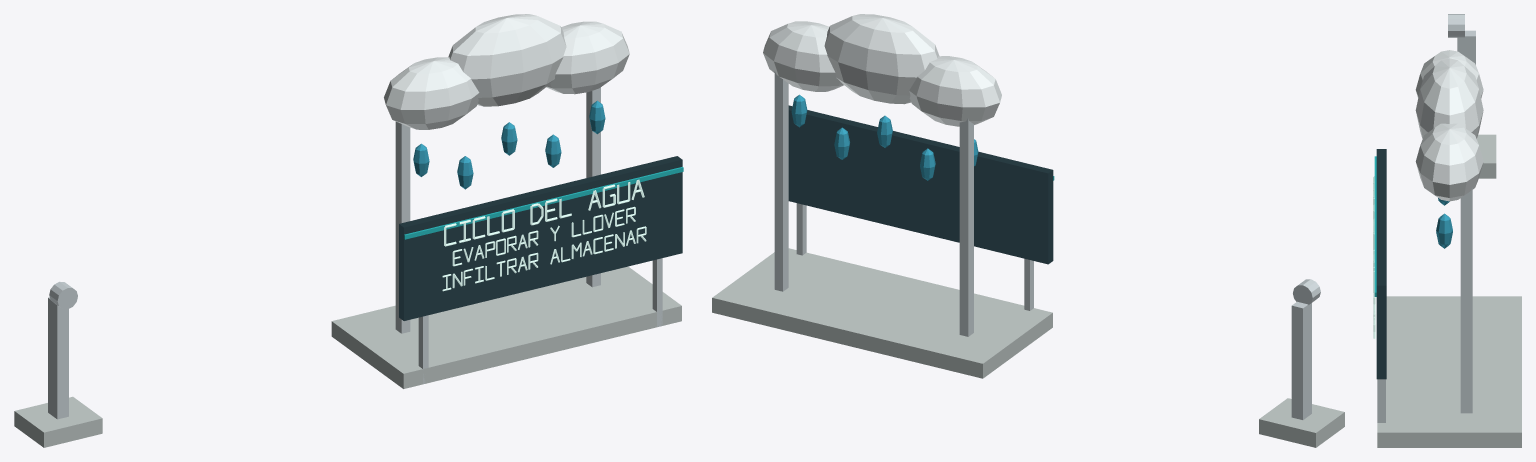
The model's file is AQUA-022.glb.
3 renders of one model, left to right at view 1: azimuth 30°, elevation 25°; view 2: azimuth 150°, elevation 25°; view 3: azimuth 270°, elevation 25°, orthographic. The views are drawn at different scales.
Visible parts, largest first — view 1: AQUA-022; view 2: AQUA-022; view 3: AQUA-022.
Part boxes in pixels (x1,y1,x2,y2): AQUA-022: [14, 14, 683, 447]; AQUA-022: [712, 14, 1344, 447]; AQUA-022: [1373, 14, 1521, 447].
Size of the model in its own units: 8.3 by 4.05 by 1.75.
